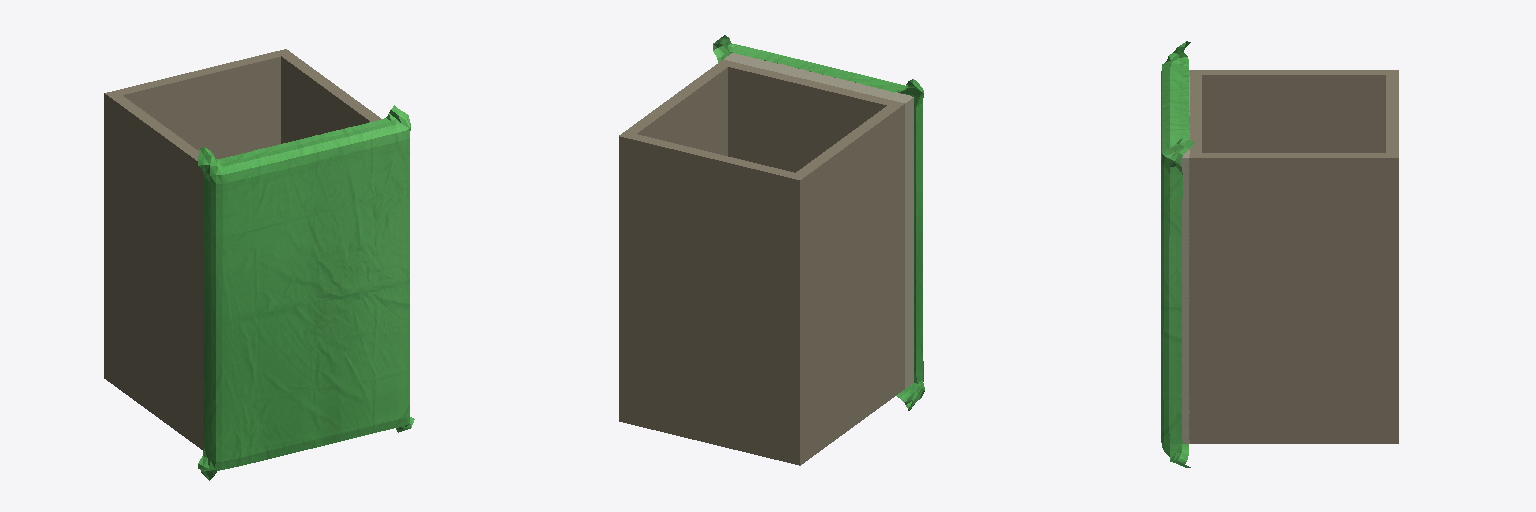
3 renders of one model, left to right at view 1: azimuth 30°, elevation 25°; view 2: azimuth 150°, elevation 25°; view 3: azimuth 270°, elevation 25°, orthographic.
Parts seen in each view (by area): view 1: 平面, 立方体; view 2: 立方体, 平面, 立方体.001; view 3: 立方体, 平面, 立方体.001.
Boxes of the visible parts, x1=… form: 平面: x1=198, y1=105, x2=414, y2=480; 立方体: x1=104, y1=49, x2=380, y2=450; 立方体: x1=619, y1=59, x2=904, y2=465; 平面: x1=713, y1=35, x2=924, y2=410; 立方体.001: x1=724, y1=53, x2=913, y2=388; 立方体: x1=1189, y1=70, x2=1398, y2=443; 平面: x1=1161, y1=41, x2=1194, y2=467; 立方体.001: x1=1181, y1=70, x2=1189, y2=443.
Bounding box in the file's own units: 0.9472 × 1.4 × 0.9082.
3 materials, 1 textured.